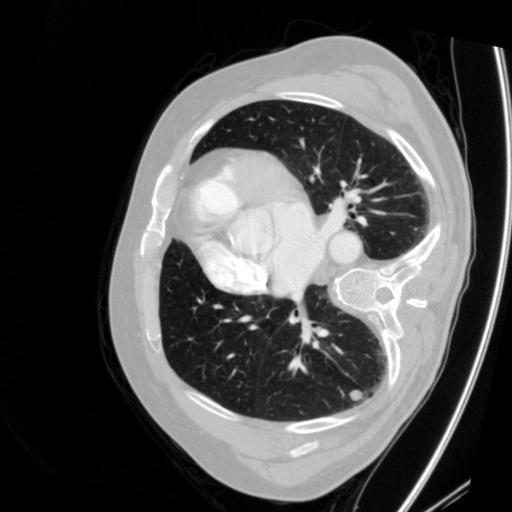nodule: (346, 386, 365, 405)
